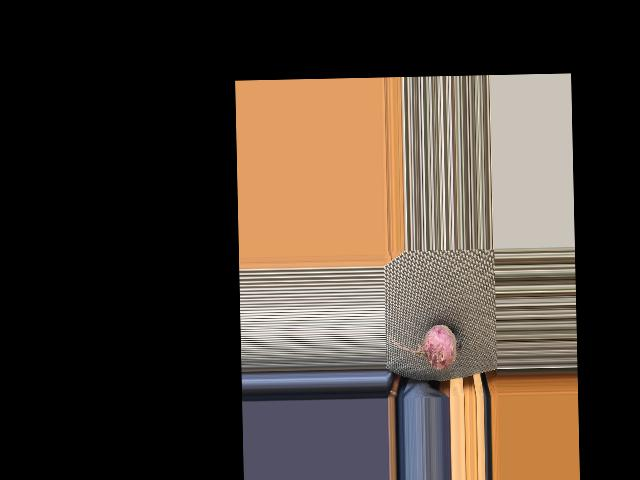beet: (391, 324, 463, 371)
